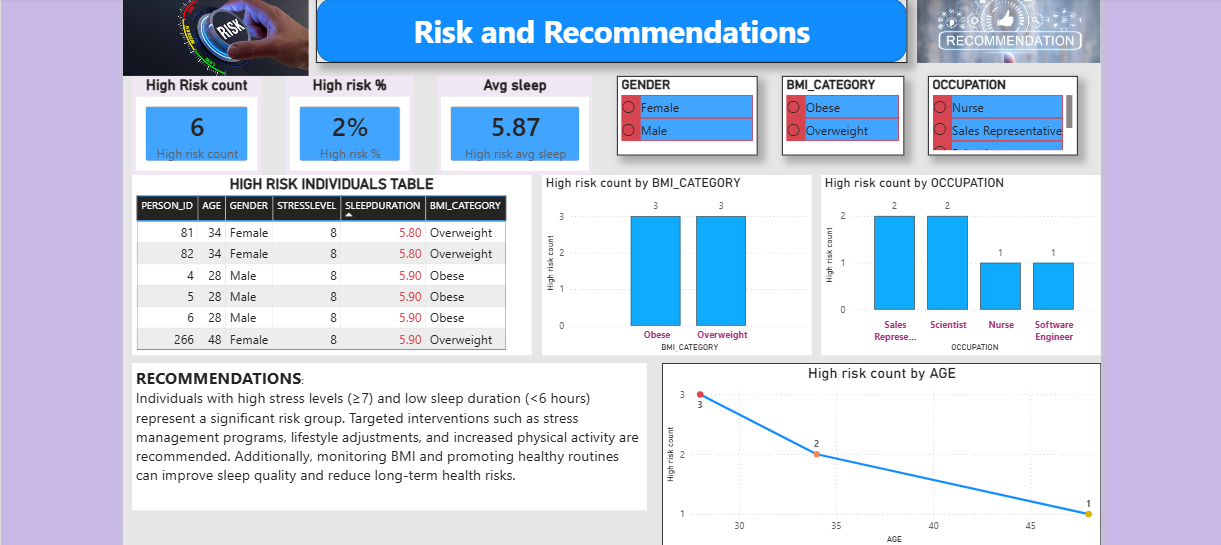

What the dashboard file says about the page in this screenshot:
{"tool":"powerbi","page":{"name":"Risk & Recommendations","canvas":[1280,720],"ordinal":2},"visuals":[{"type":"shape","box":[252.9,0,774.1,84.9],"z":0},{"type":"cardVisual","title":"High risk %","fields":{"Data":["High risk.High risk %"]},"box":[212.8,102.2,167,129.6],"z":1000},{"type":"cardVisual","title":"High Risk count","fields":{"Data":["High risk.High risk count"]},"box":[11.5,102.2,169.9,129.6],"z":2000},{"type":"cardVisual","title":"Avg sleep","fields":{"Data":["High risk.High risk avg sleep"]},"box":[411.3,102.2,204.5,129.6],"z":3000},{"type":"tableEx","title":"HIGH RISK INDIVIDUALS TABLE","fields":{"Values":["High risk.PERSON_ID","High risk.AGE","High risk.GENDER","High risk.STRESSLEVEL","High risk.SLEEPDURATION","High risk.BMI_CATEGORY"]},"box":[11.5,231.8,522.7,236.2],"z":4000},{"type":"columnChart","fields":{"Category":["High risk.BMI_CATEGORY"],"Y":["High risk.High risk count"]},"box":[547.9,231.8,352.8,236.2],"z":5000},{"type":"columnChart","fields":{"Y":["High risk.High risk count"],"Category":["High risk.OCCUPATION"]},"box":[914.2,231.8,365.8,236.2],"z":6000},{"type":"listSlicer","fields":{"Values":["High risk.GENDER"]},"box":[647.1,102.2,184.3,103.7],"z":7000},{"type":"listSlicer","fields":{"Values":["High risk.BMI_CATEGORY"]},"box":[862.8,102.2,159.8,103.7],"z":8000},{"type":"listSlicer","fields":{"Values":["High risk.OCCUPATION"]},"box":[1054.1,102.2,195.8,103.7],"z":9000},{"type":"textbox","box":[11.5,478.1,673.9,193],"z":10000},{"type":"image","box":[0,0,243.4,102.2],"z":11000},{"type":"image","box":[1039.7,0,240.5,85],"z":12000},{"type":"lineChart","fields":{"Category":["High risk.AGE"],"Y":["High risk.High risk count"]},"box":[705.6,478.1,574.6,241.9],"z":13000}]}

Visuals, with their boxes on the page's 1280x720 design canvas (x1, y1, x2, y2). These are canvas units, not pixel positions in the 1221x545 screenshot, which may show the page scaled, cropped or inside an application window:
shape: x1=253, y1=0, x2=1027, y2=85
"High risk %" cardVisual: x1=213, y1=102, x2=380, y2=232
"High Risk count" cardVisual: x1=12, y1=102, x2=181, y2=232
"Avg sleep" cardVisual: x1=411, y1=102, x2=616, y2=232
"HIGH RISK INDIVIDUALS TABLE" tableEx: x1=12, y1=232, x2=534, y2=468
columnChart - High risk.BMI_CATEGORY x High risk.High risk count: x1=548, y1=232, x2=901, y2=468
columnChart - High risk.High risk count x High risk.OCCUPATION: x1=914, y1=232, x2=1280, y2=468
listSlicer - High risk.GENDER: x1=647, y1=102, x2=831, y2=206
listSlicer - High risk.BMI_CATEGORY: x1=863, y1=102, x2=1023, y2=206
listSlicer - High risk.OCCUPATION: x1=1054, y1=102, x2=1250, y2=206
textbox: x1=12, y1=478, x2=685, y2=671
image: x1=0, y1=0, x2=243, y2=102
image: x1=1040, y1=0, x2=1280, y2=85
lineChart - High risk.AGE x High risk.High risk count: x1=706, y1=478, x2=1280, y2=720
